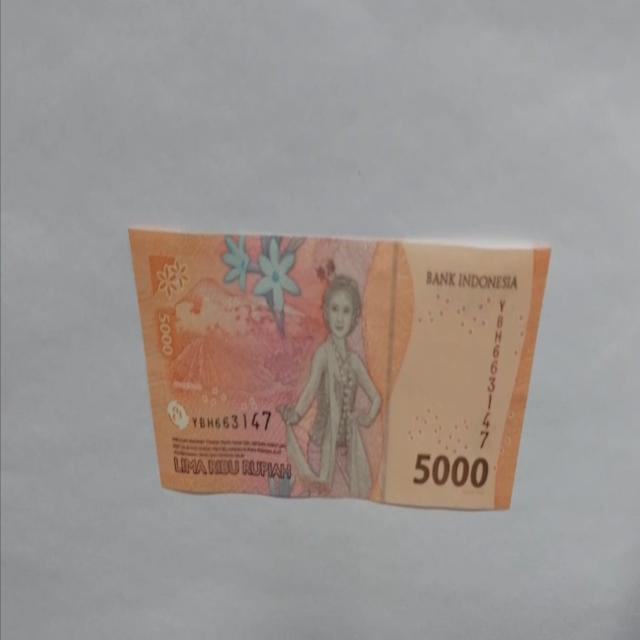lima ribu rupiah: (126, 225, 552, 510), (275, 273, 383, 499)
